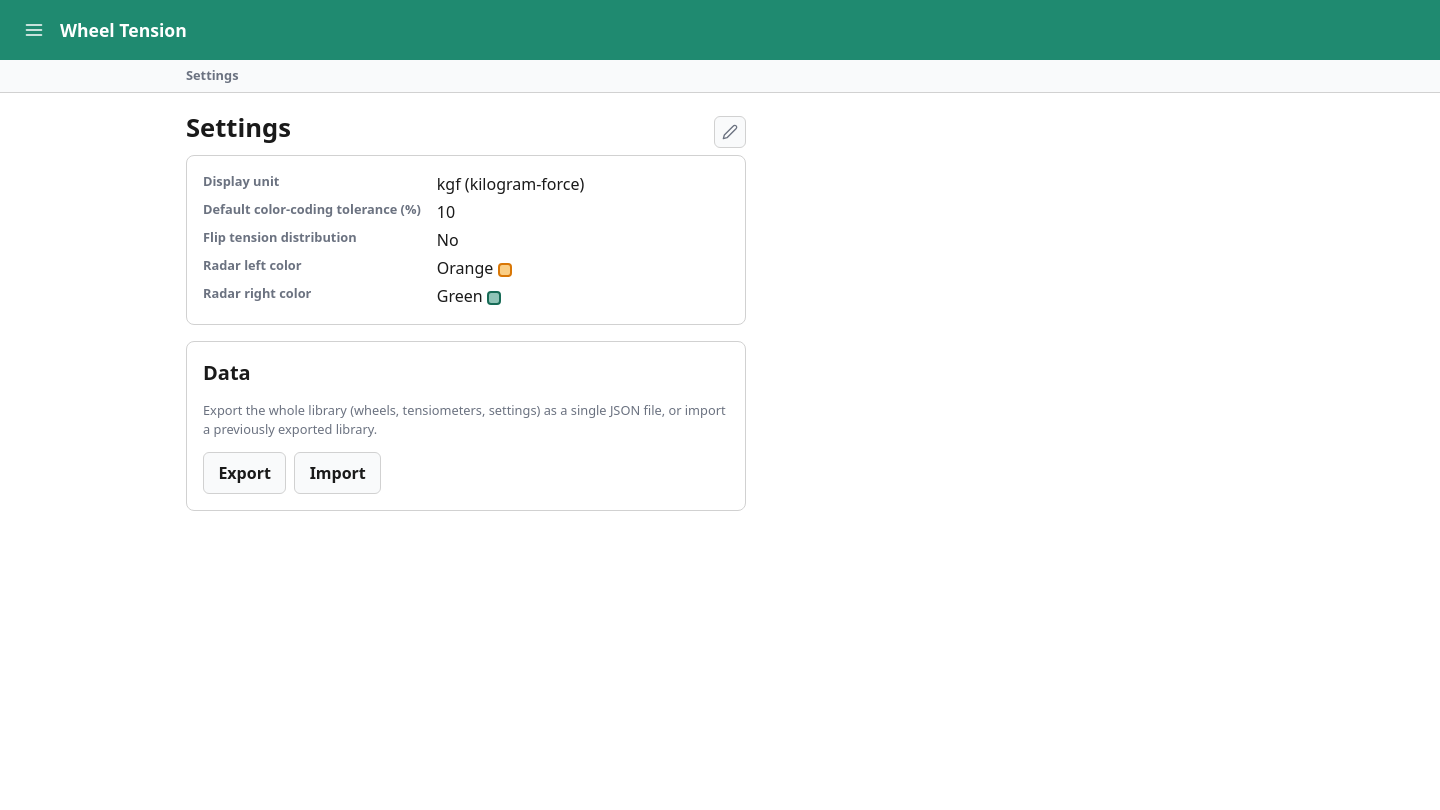
Scenario: Settings › edits settings and saves
Click the button named "Edit settings": point(730, 132) [714,116,746,148]
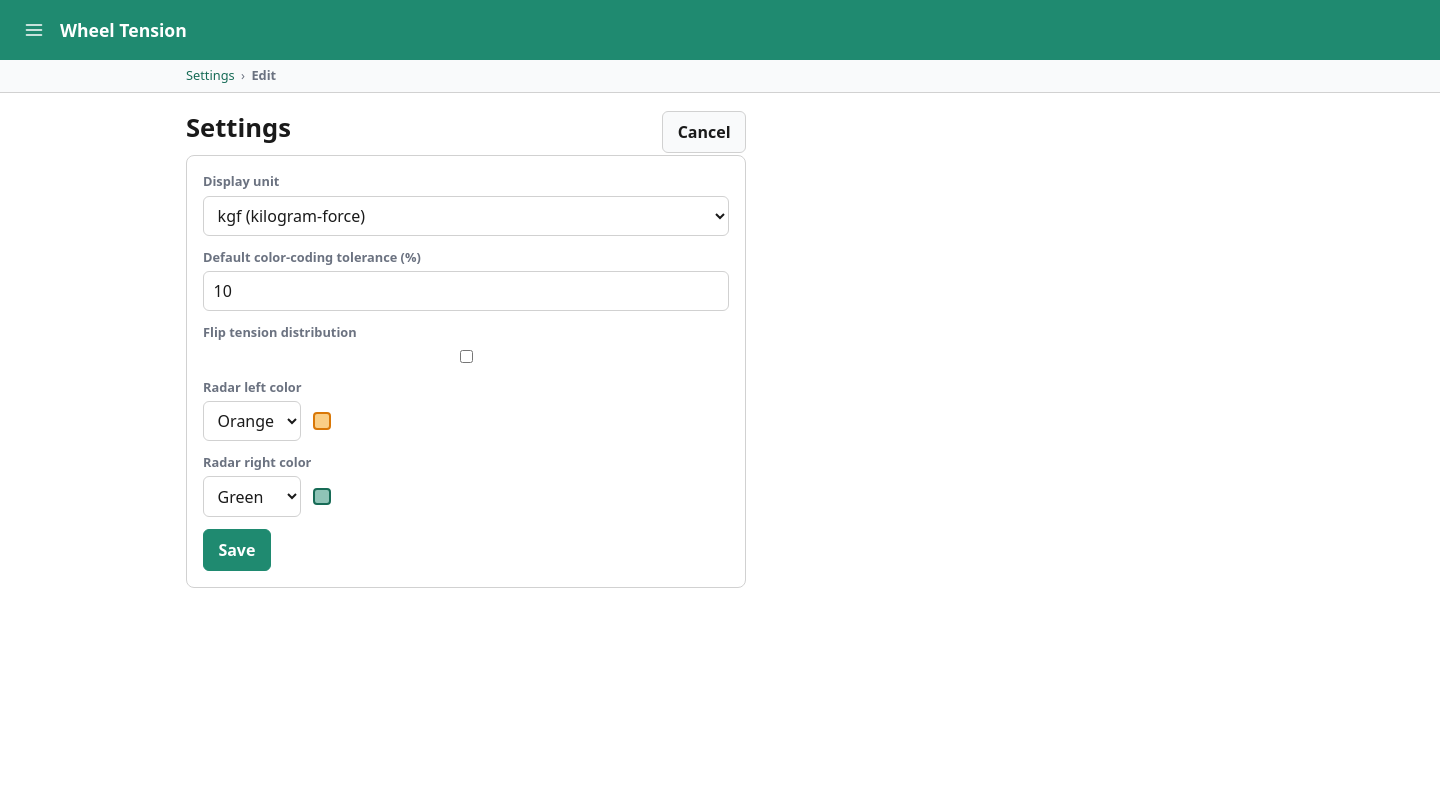
Select "N (newtons)" in the dropdown labelled "Display unit": point(466, 216) [203,196,729,236]
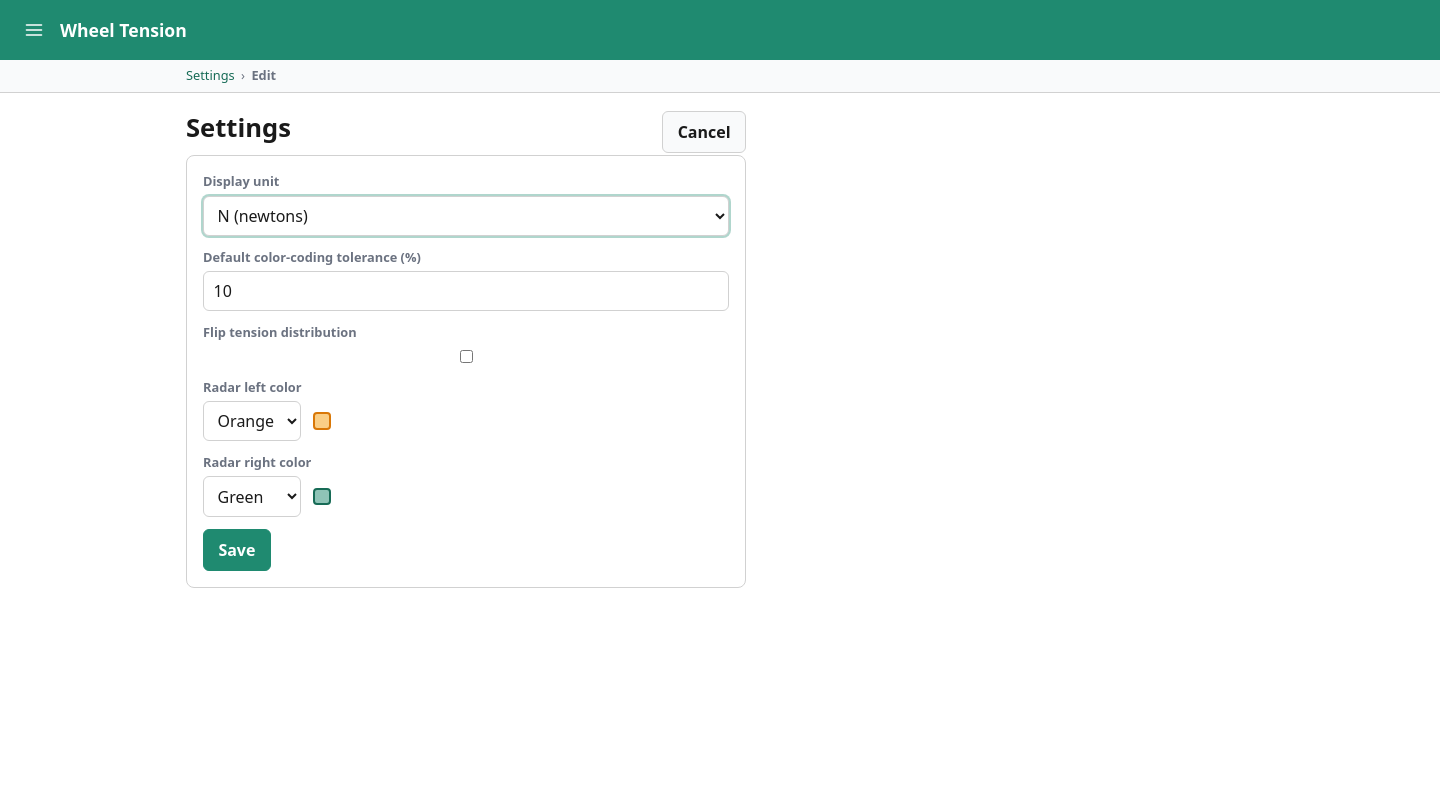
Click the button "Save": point(237, 550) [203,529,271,571]
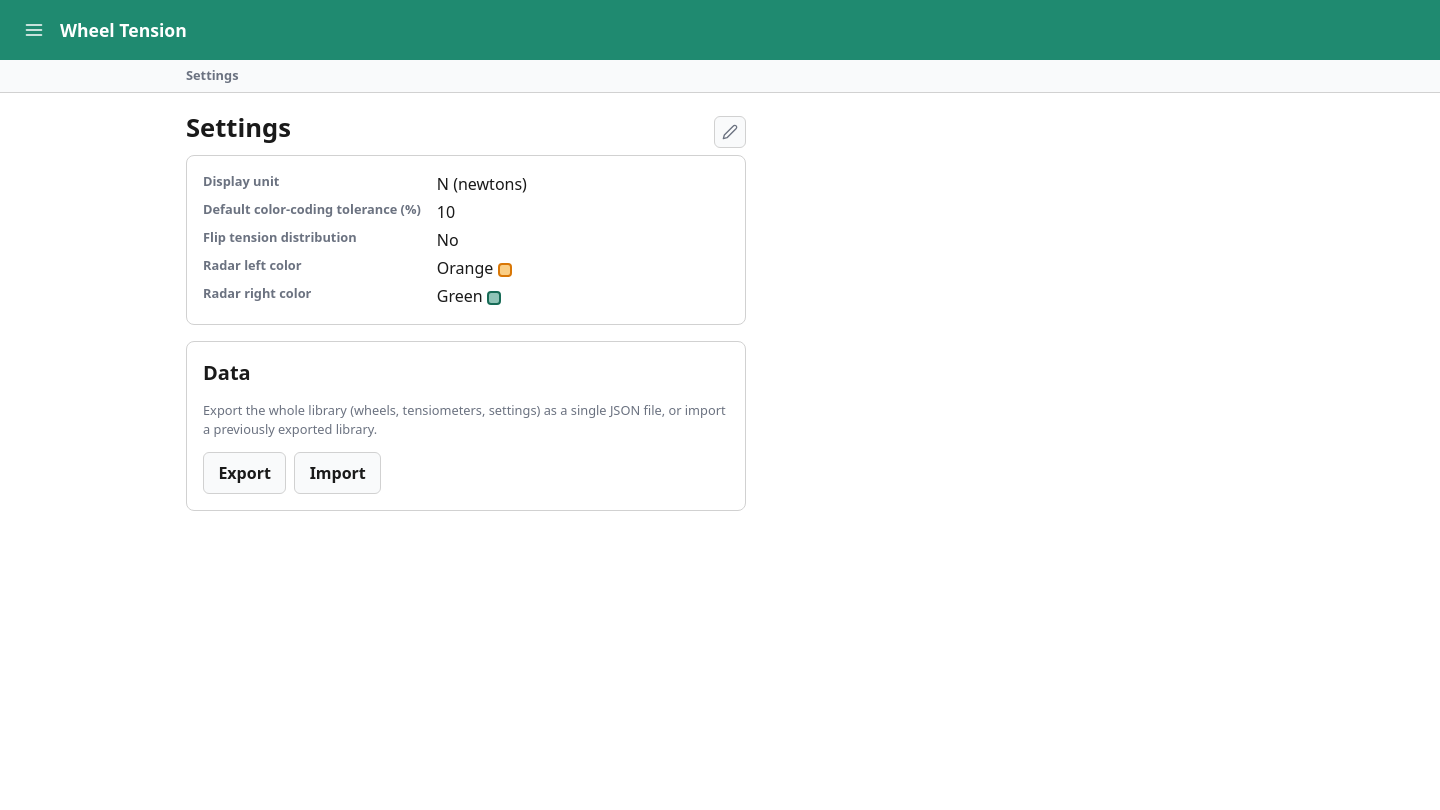
Check: the text "N (newtons)" is shown, box [437,173,527,195]
